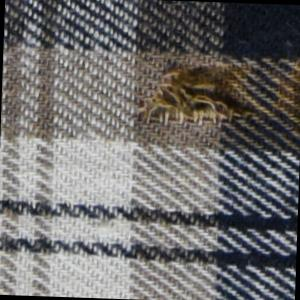Damage: (136, 48, 268, 140)
Oil Stain: (280, 56, 300, 135)
